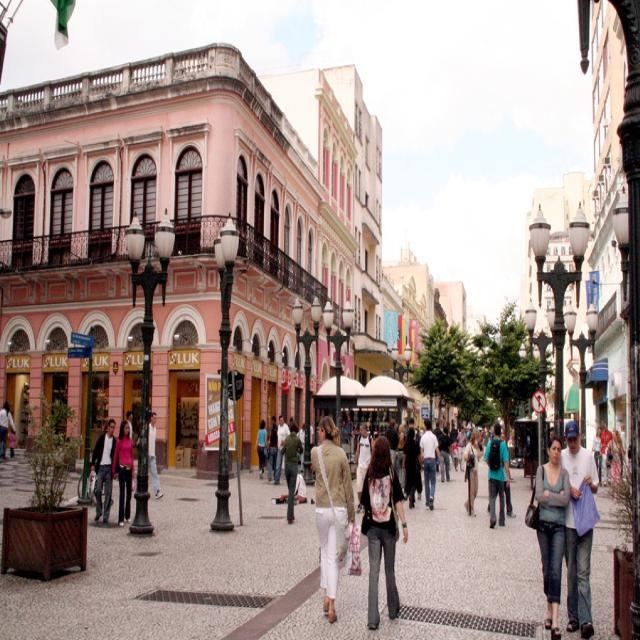body: (270, 408, 403, 504), (308, 414, 361, 624), (522, 433, 572, 639), (358, 433, 408, 632), (559, 419, 602, 640), (484, 420, 511, 529), (90, 418, 117, 526), (110, 418, 135, 528), (486, 432, 517, 518), (280, 419, 304, 525), (417, 417, 443, 512), (353, 422, 374, 516), (605, 426, 629, 504), (463, 427, 483, 518), (402, 417, 422, 504), (402, 426, 422, 508), (148, 411, 164, 501), (272, 415, 292, 487), (445, 418, 493, 443), (600, 418, 614, 488), (0, 399, 16, 460), (254, 418, 268, 481), (438, 427, 452, 483), (591, 426, 602, 488), (432, 421, 444, 474), (456, 426, 468, 474), (384, 417, 400, 450), (297, 422, 307, 472), (6, 426, 17, 459), (450, 438, 460, 472), (125, 410, 135, 440), (618, 422, 626, 457), (482, 426, 491, 456), (268, 415, 279, 432)
